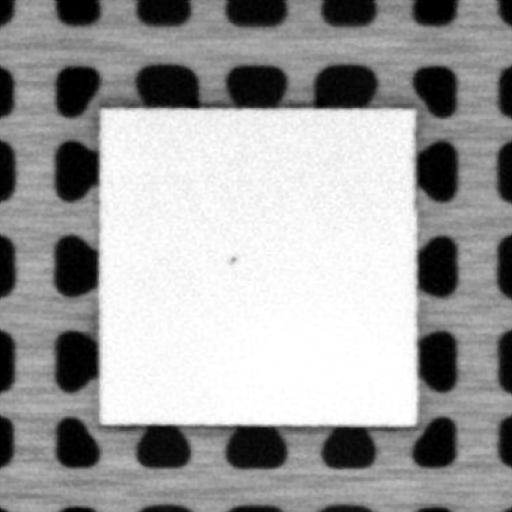DIE_INK: (225, 250, 237, 263)
